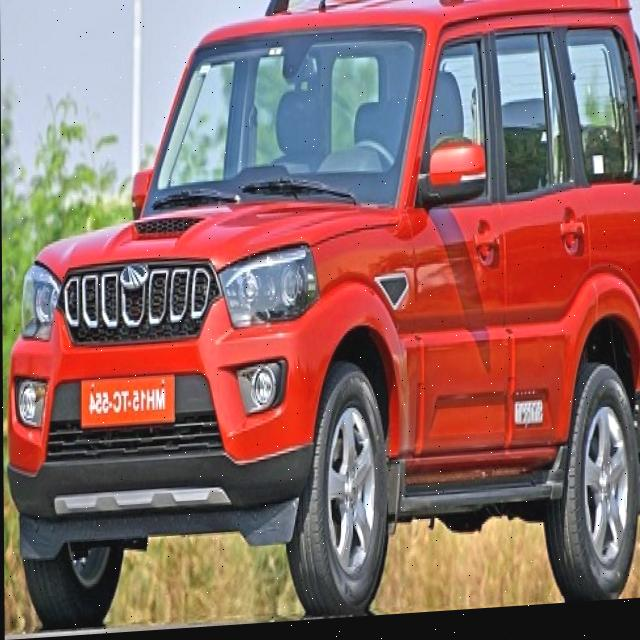plate: (75, 372, 178, 435)
